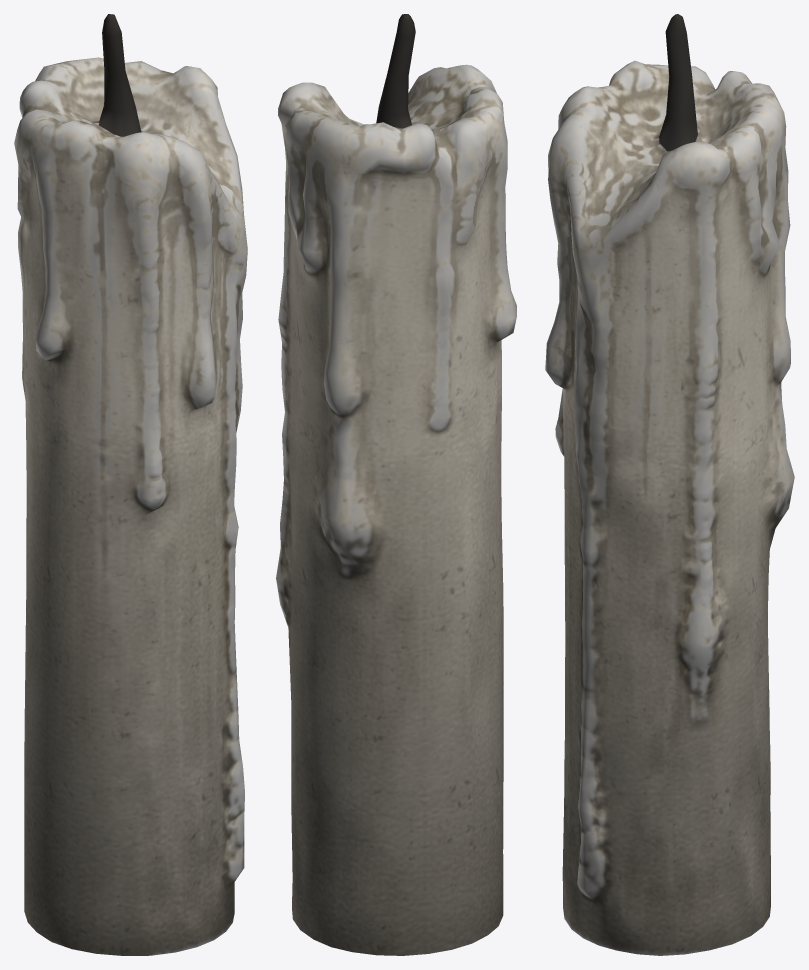
File: SM_Candle.fbx
3 renders of one model, left to right at view 1: azimuth 30°, elevation 25°; view 2: azimuth 150°, elevation 25°; view 3: azimuth 270°, elevation 25°, orthographic.
Visible parts, largest first — view 1: SM_Candle_LOD0; view 2: SM_Candle_LOD0; view 3: SM_Candle_LOD0.
Part boxes in pixels (left/top/right/bottom): SM_Candle_LOD0: left=14, top=14, right=247, bottom=955; SM_Candle_LOD0: left=276, top=14, right=516, bottom=955; SM_Candle_LOD0: left=545, top=14, right=794, bottom=955.
Bounding box in the file's own units: 2.26 × 2.38 × 9.37.
